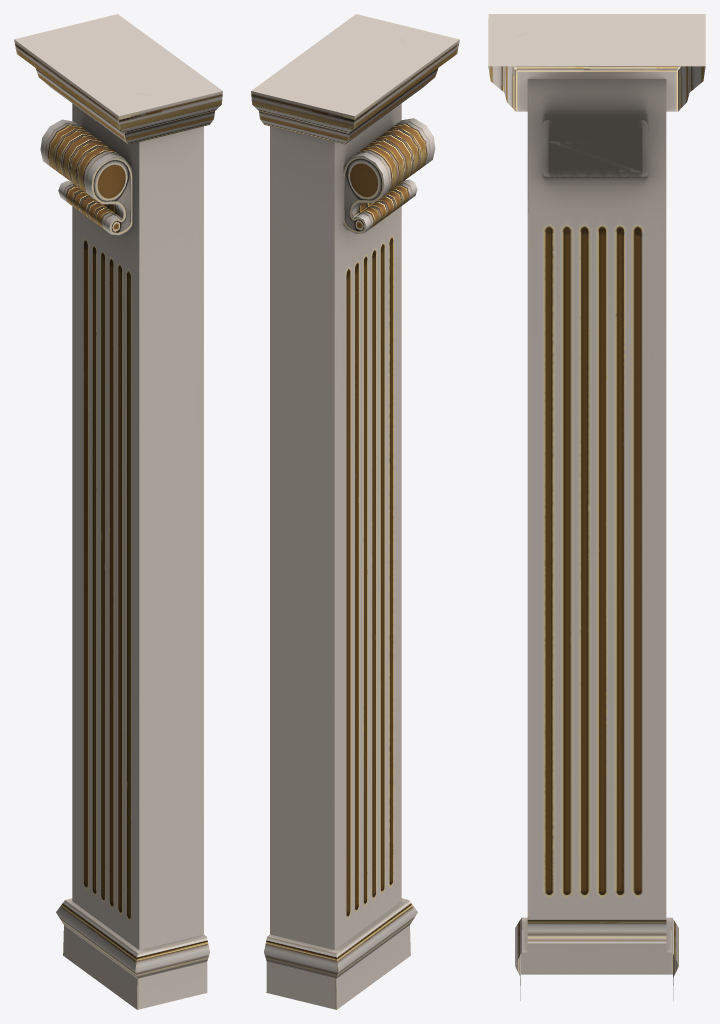
File: Room02_PillarB.FBX
3 views of the same model, side by side, from view 1: azimuth 30°, elevation 25°; view 2: azimuth 150°, elevation 25°; view 3: azimuth 270°, elevation 25° (orthographic). The views are drawn at different scales.
Visible parts, largest first — view 1: Room02_PillarB; view 2: Room02_PillarB; view 3: Room02_PillarB.
Boxes of the visible parts, box(x1,y1,x2,y2) form: Room02_PillarB: box(14, 14, 222, 1009); Room02_PillarB: box(251, 14, 459, 1009); Room02_PillarB: box(488, 14, 705, 1000).
Bounding box in the file's own units: 65.2 × 113 × 540.
